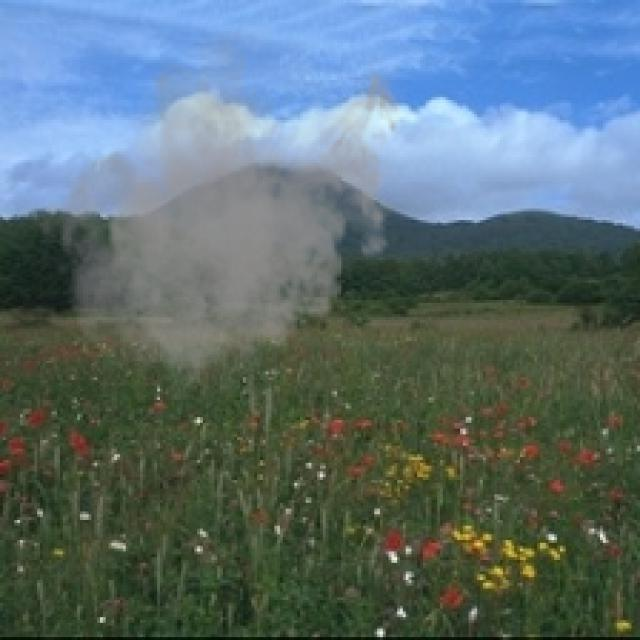Smoke: (34, 6, 412, 400)
